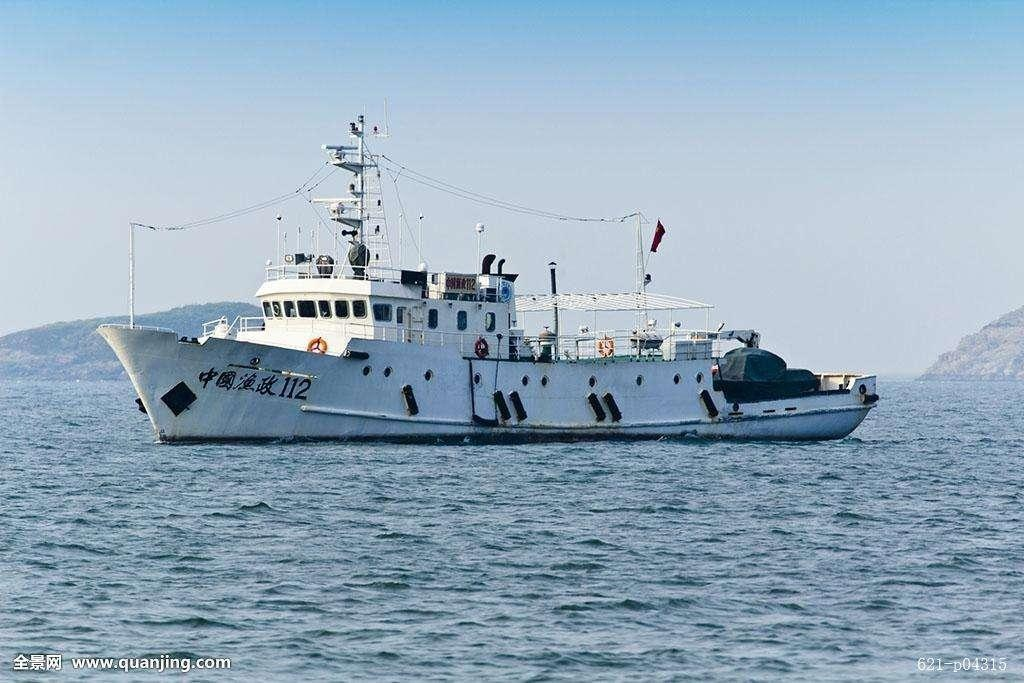otherboat: (80, 120, 889, 439)
